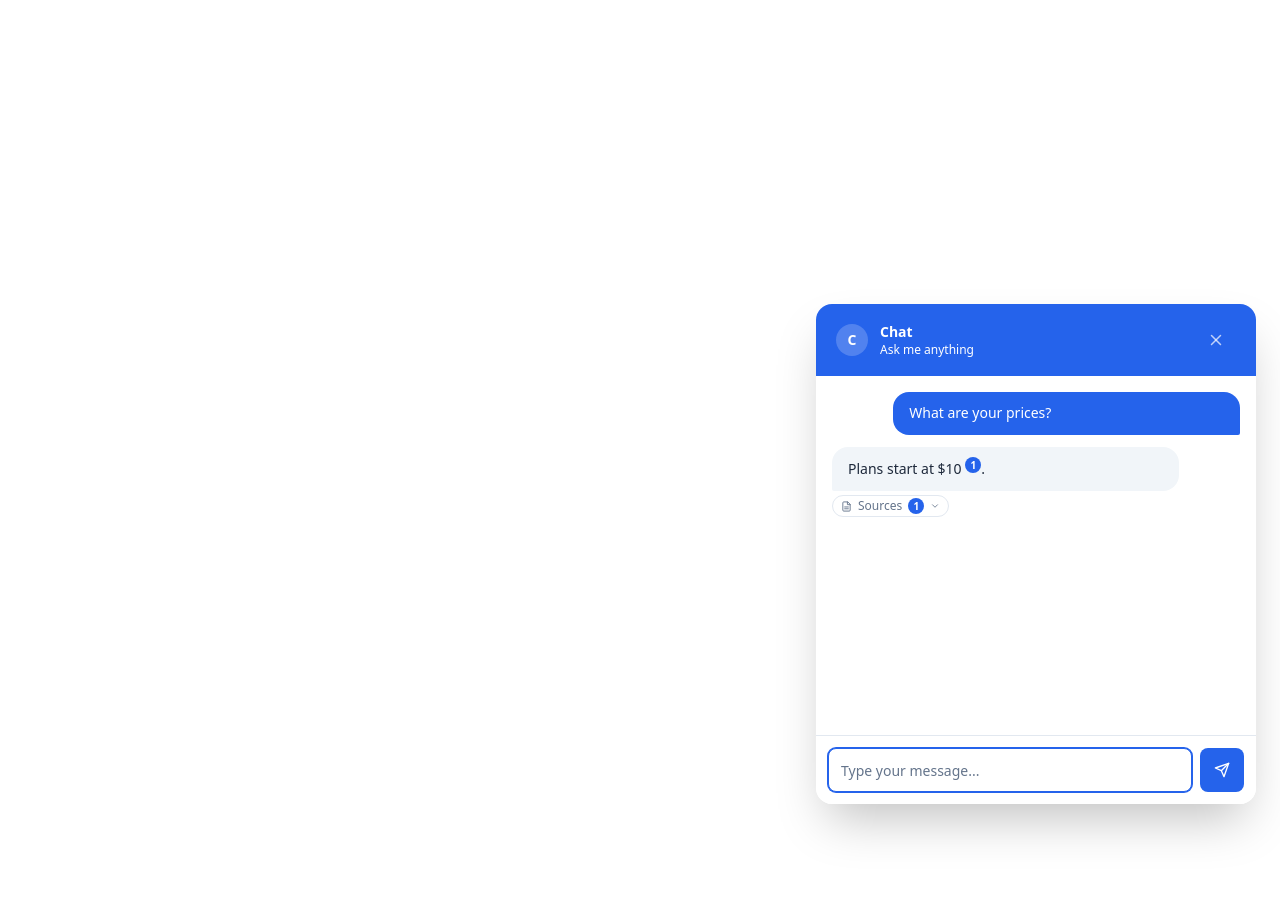
Test case: ChatWindow citations › renders chips and the footer, and never the sidebar
This screenshot has width=1280, height=900.
Step 1. Click the button named "Source 1: Pricing" → click(973, 465), box [965,457,981,473]
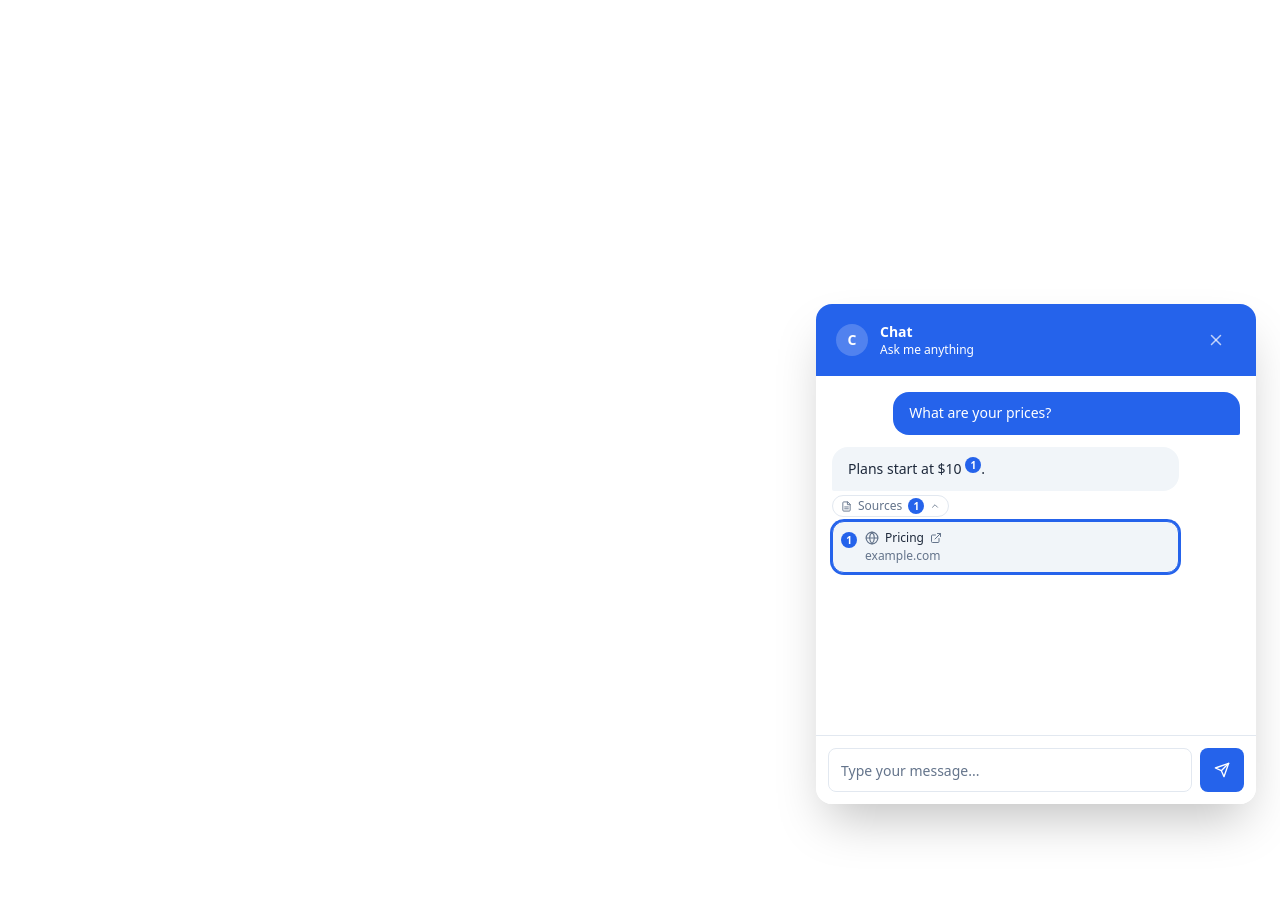
Now the list named "Sources" is shown, box [832,521,1179,573]
